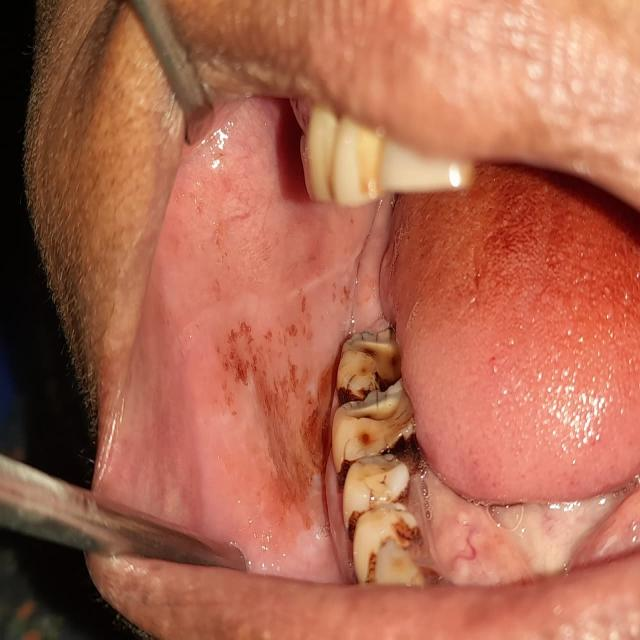leukoplakia-like-detection: (177, 262, 391, 582), (408, 465, 640, 585)
processing_area: (107, 95, 640, 591)
